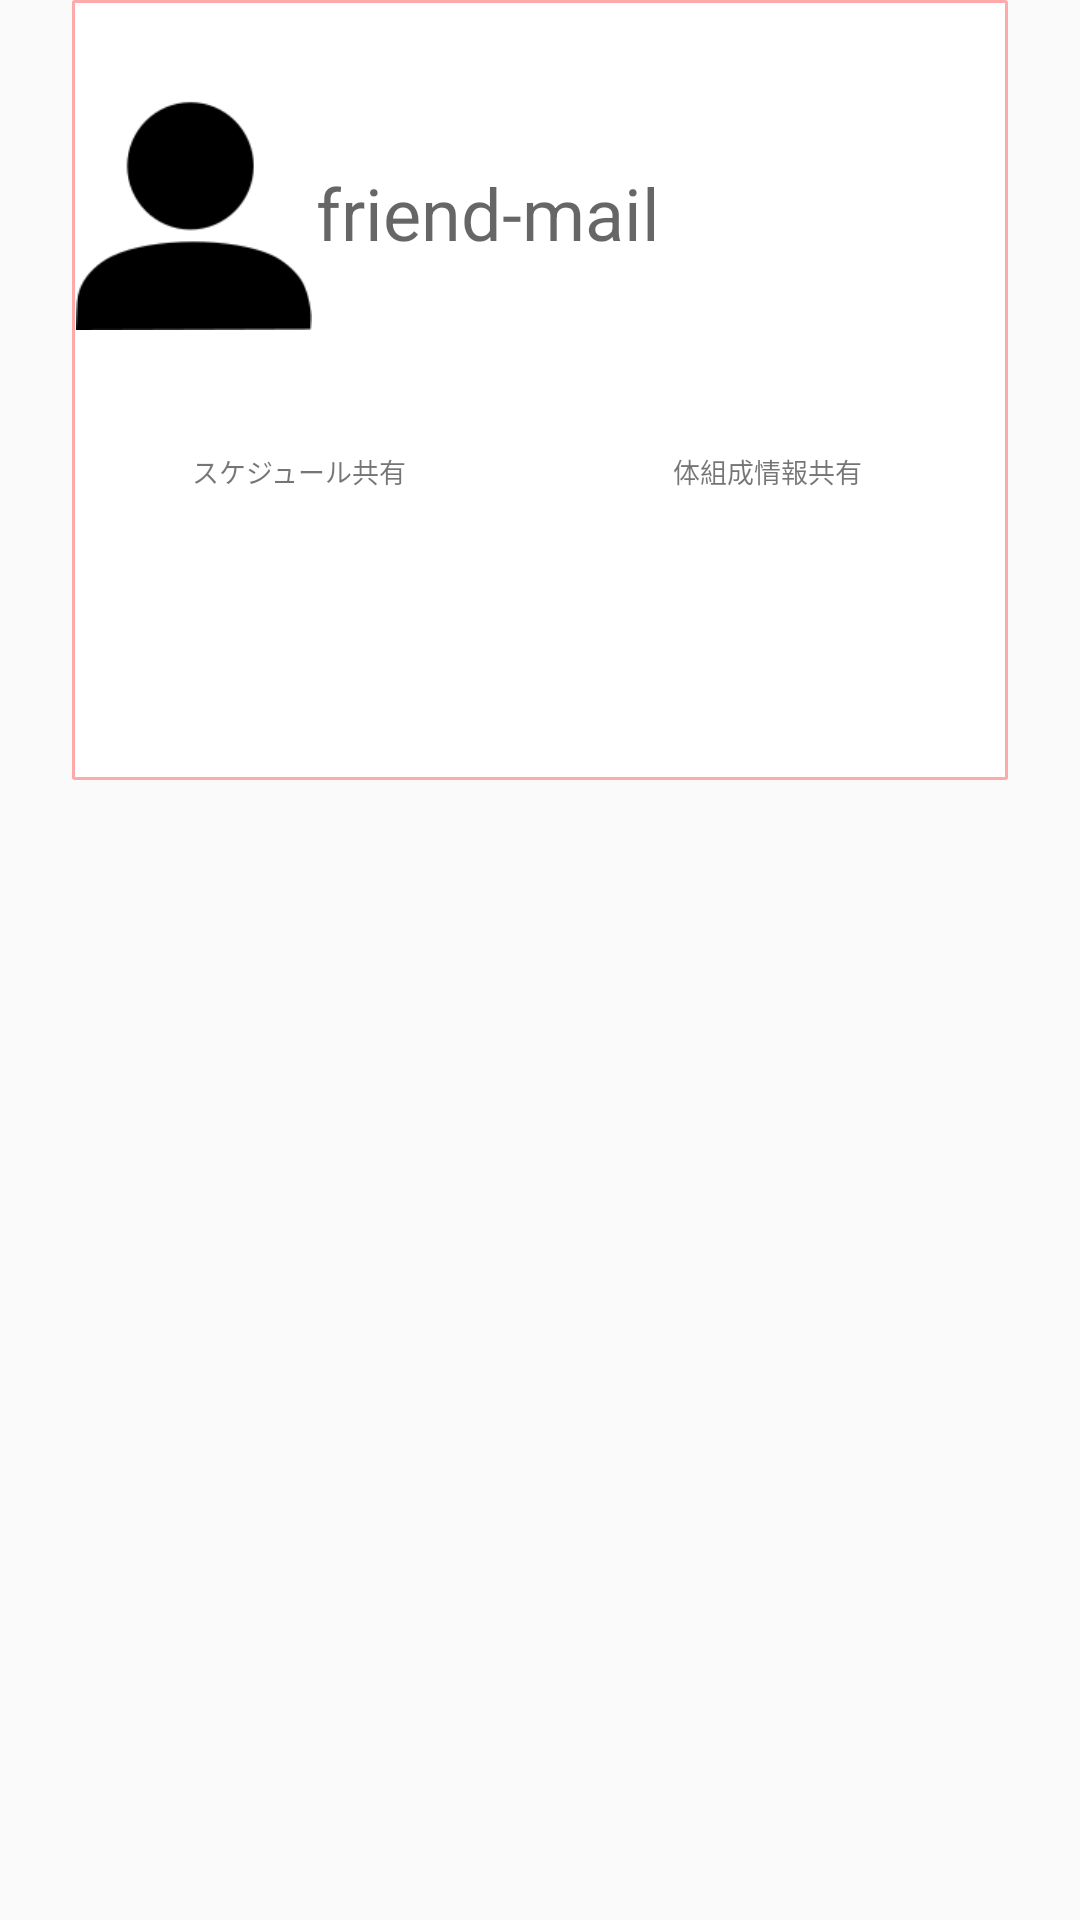

Icon click points for this 1080*1920 phone screenshot, format [x,y]:
human: [194,216]
